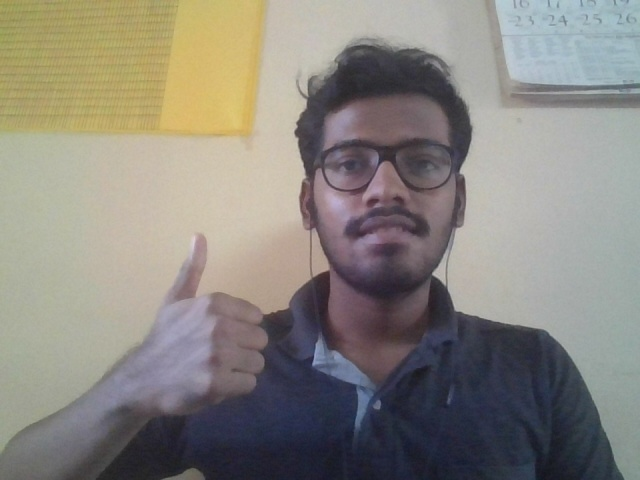ThumbsUp: (133, 231, 268, 420)
